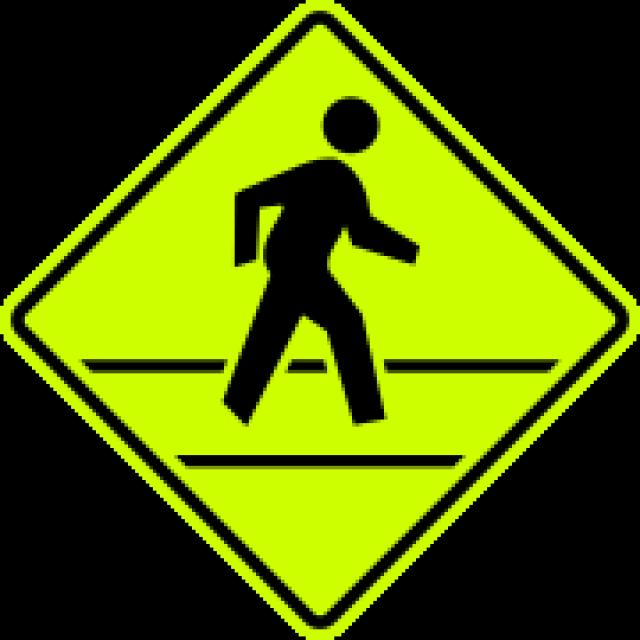Pedestrian crosswalk: (22, 25, 617, 596)
